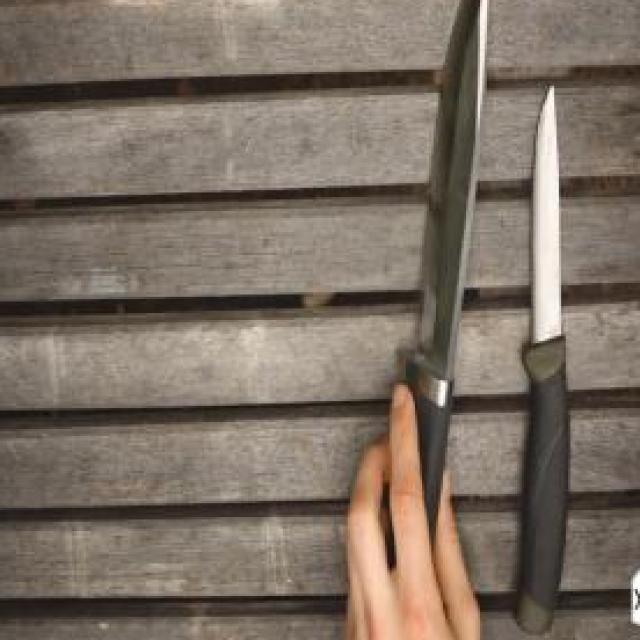knife: (348, 0, 494, 492), (515, 51, 584, 403)
